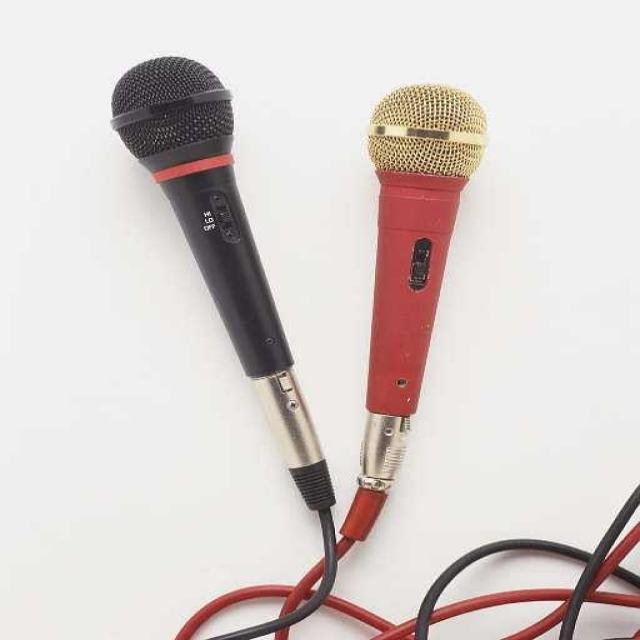microphone: (96, 39, 364, 460), (328, 68, 528, 488)
